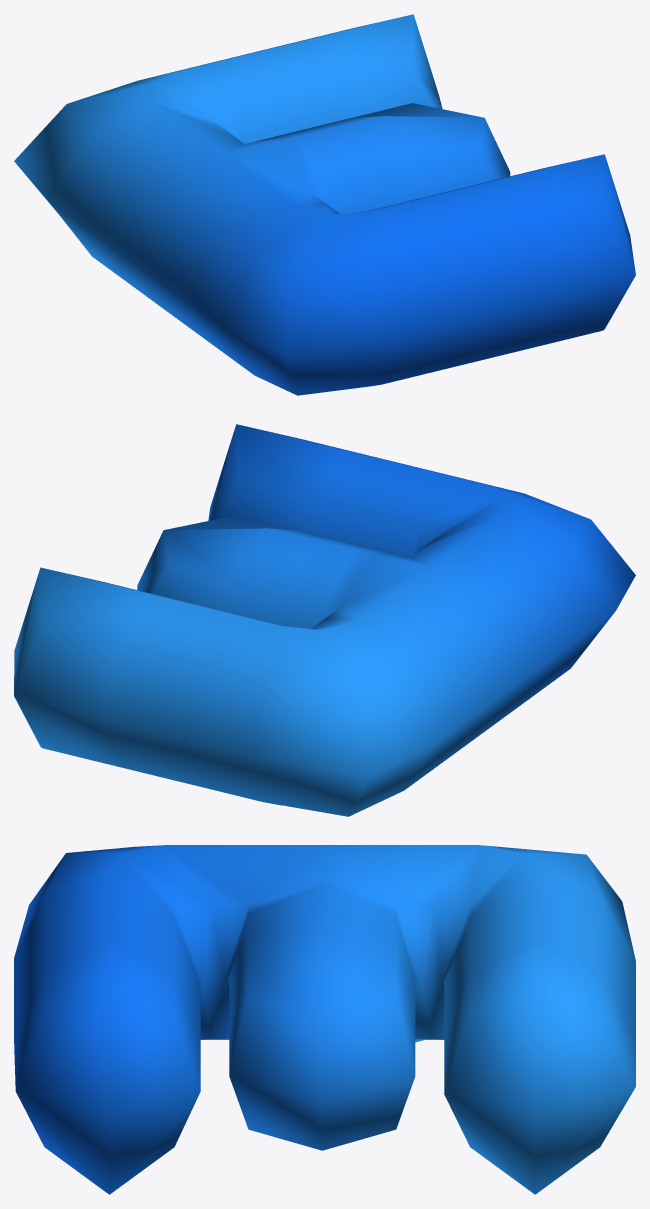
File: CartoonFont_E.FBX
3 renders of one model, top to bottom at view 1: azimuth 30°, elevation 25°; view 2: azimuth 150°, elevation 25°; view 3: azimuth 270°, elevation 25°, orthographic. The views are drawn at different scales.
Parts seen in each view (by area): view 1: E; view 2: E; view 3: E.
Boxes of the visible parts, x1=… form: E: x1=14, y1=14, x2=635, y2=395; E: x1=14, y1=424, x2=635, y2=816; E: x1=14, y1=845, x2=635, y2=1194.
Bounding box in the file's own units: 23.97 × 10.01 × 28.95.
1 material, 1 textured.
